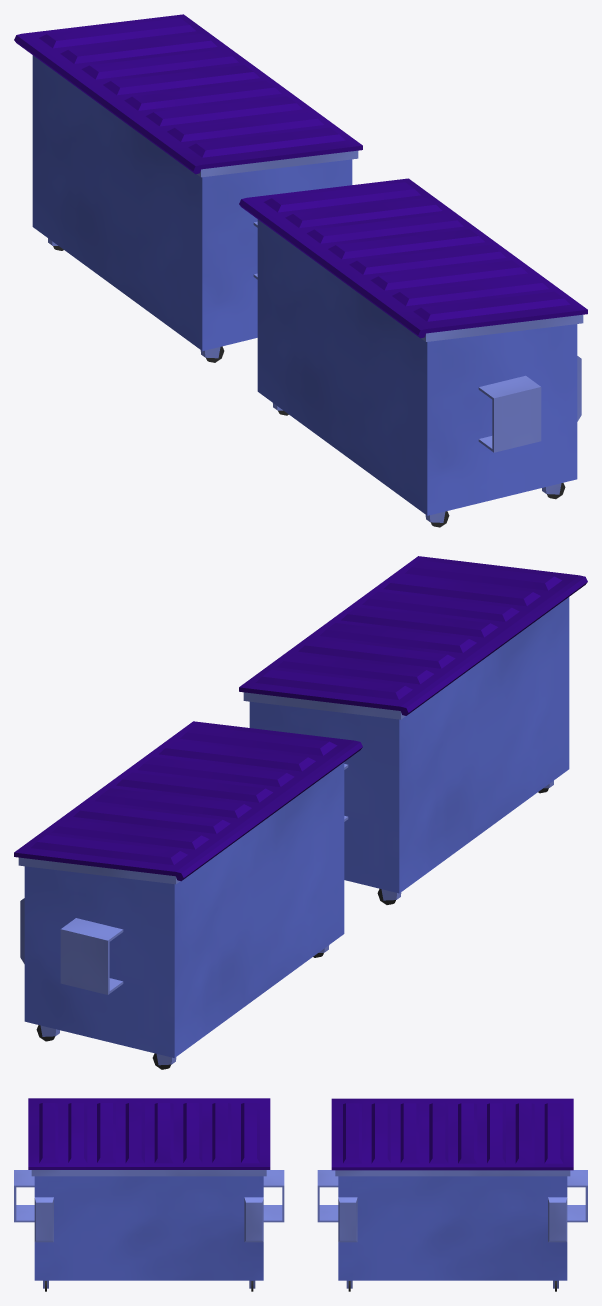
The model's file is SM_Dumpster.fbx.
The picture shows the model from 3 angles, top to bottom: view 1: azimuth 30°, elevation 25°; view 2: azimuth 150°, elevation 25°; view 3: azimuth 270°, elevation 25°; orthographic projection. The views are drawn at different scales.
Visible parts, largest first — view 1: SM_DumpsterClosed, SM_Dumpster_01_Base, SM_Dumpster_01_Lid; view 2: SM_DumpsterClosed, SM_Dumpster_01_Base, SM_Dumpster_01_Lid; view 3: SM_DumpsterClosed, SM_Dumpster_01_Base, SM_Dumpster_01_Lid.
Boxes of the visible parts, x1,y1,x2,y2 form: SM_DumpsterClosed: (14, 14, 362, 362); SM_Dumpster_01_Base: (257, 219, 583, 527); SM_Dumpster_01_Lid: (239, 178, 587, 338); SM_DumpsterClosed: (14, 721, 362, 1069); SM_Dumpster_01_Base: (243, 597, 569, 904); SM_Dumpster_01_Lid: (239, 556, 587, 715); SM_DumpsterClosed: (317, 1098, 587, 1291); SM_Dumpster_01_Base: (14, 1170, 284, 1291); SM_Dumpster_01_Lid: (28, 1098, 270, 1169).
Size of the model in its own units: 1.2 by 1.47 by 5.22.
